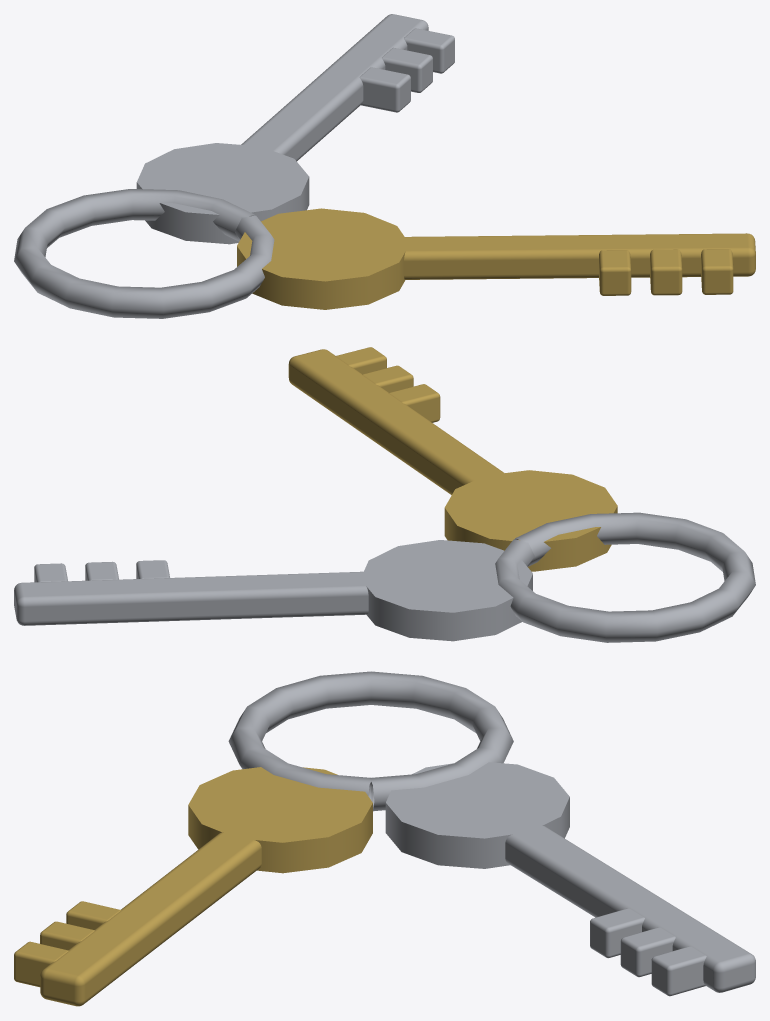
Rendered from item_ic_lost_keys.glb.
The picture shows the model from 3 angles, top to bottom: view 1: azimuth 30°, elevation 25°; view 2: azimuth 150°, elevation 25°; view 3: azimuth 270°, elevation 25°; orthographic projection. The views are drawn at different scales.
Visible parts, largest first — view 1: item_ic_lost_keys_gloss; view 2: item_ic_lost_keys_gloss; view 3: item_ic_lost_keys_gloss.
Boxes of the visible parts, bbox=[...] form: item_ic_lost_keys_gloss: bbox=[14, 14, 755, 318]; item_ic_lost_keys_gloss: bbox=[14, 347, 755, 642]; item_ic_lost_keys_gloss: bbox=[14, 671, 755, 1006].
Bounding box in the file's own units: 0.1722 × 0.00946 × 0.1768.
